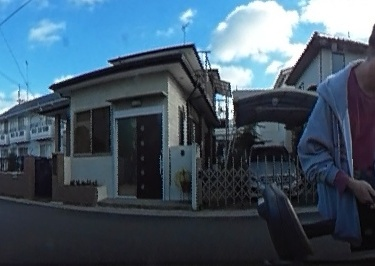person: (305, 10, 375, 244)
